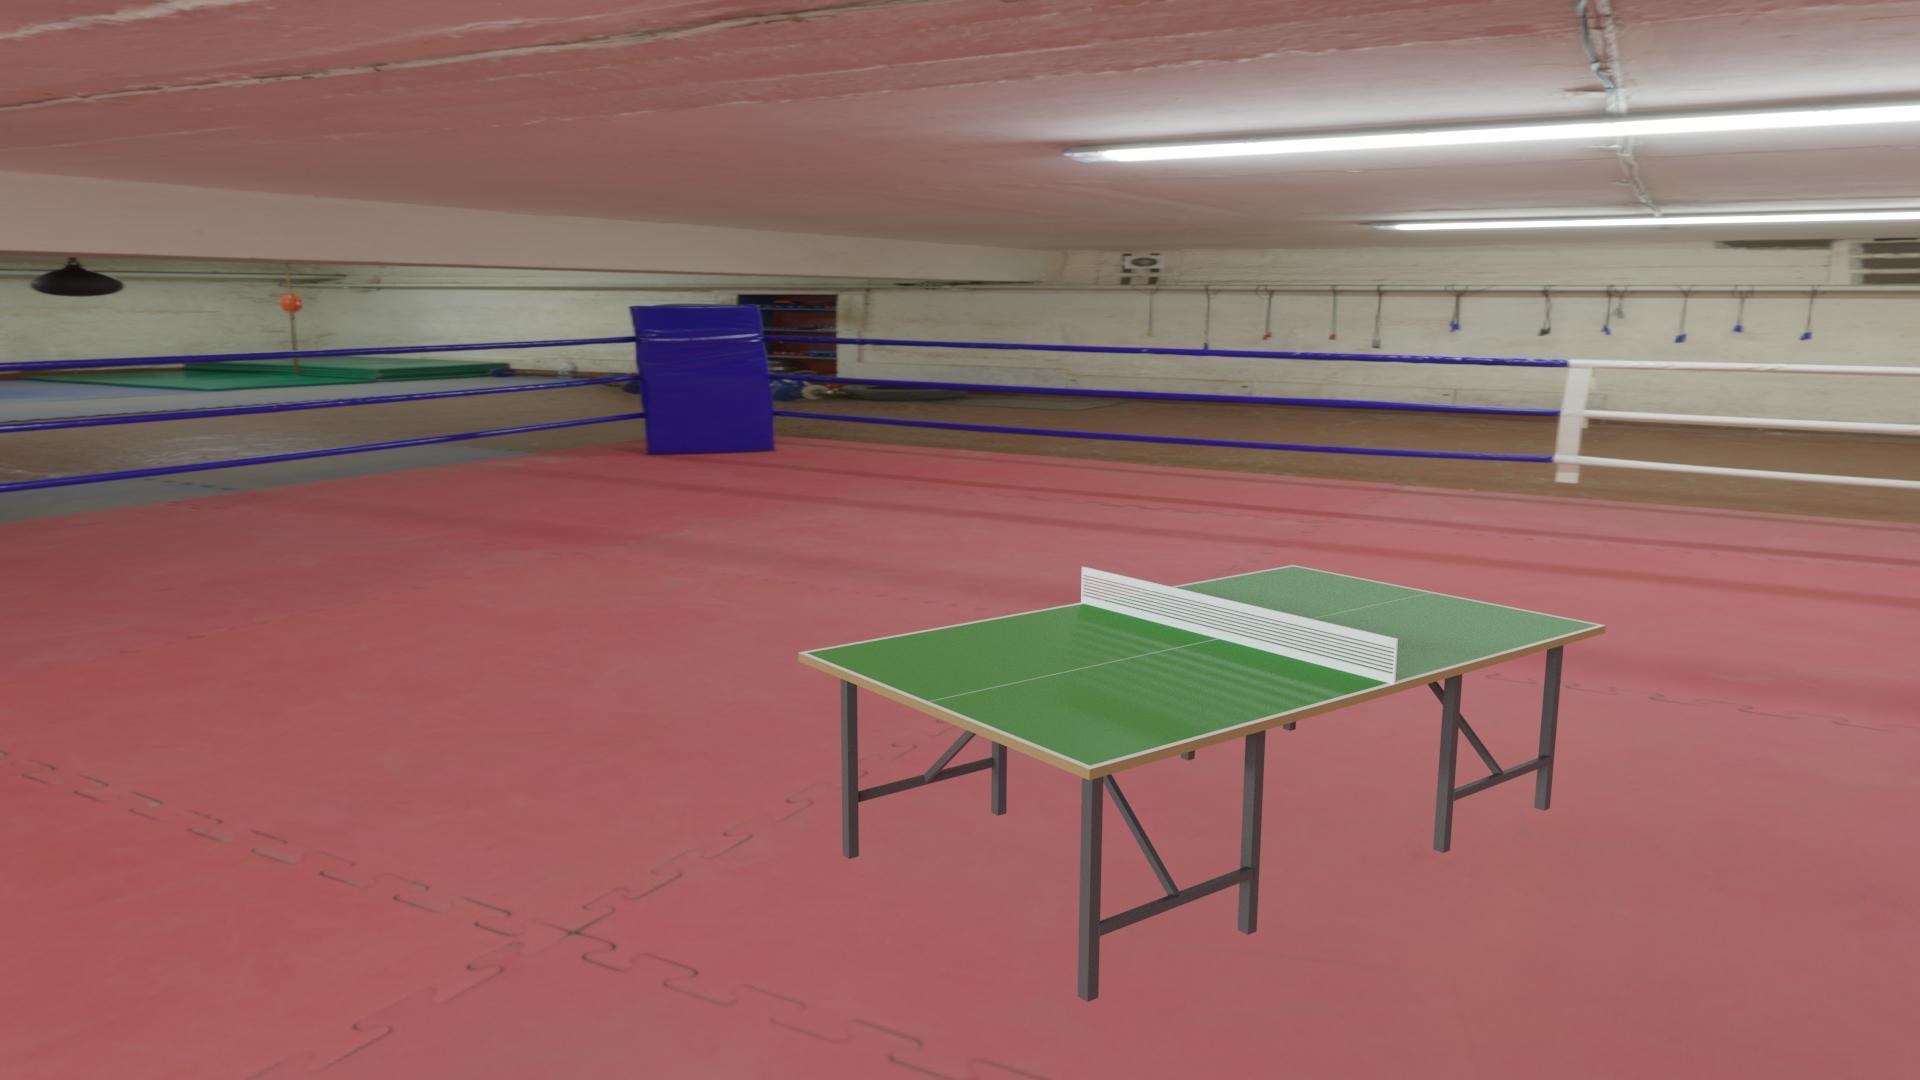table: (806, 566, 1598, 766)
